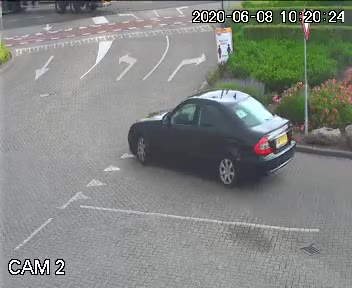car: (112, 71, 301, 194)
